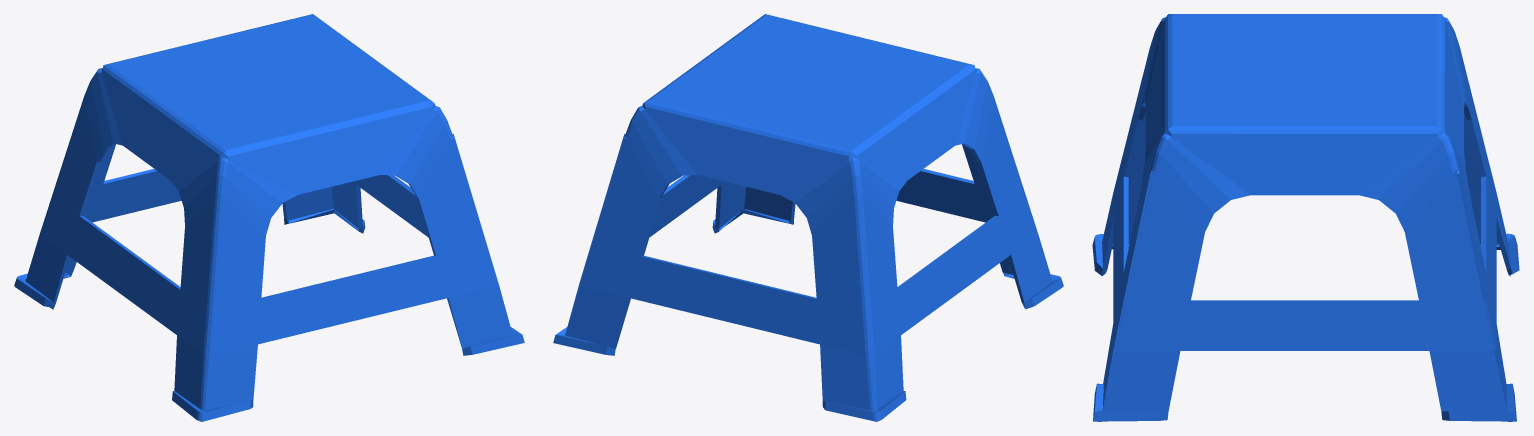
File: blue_stool.fbx
3 views of the same model, side by side, from view 1: azimuth 30°, elevation 25°; view 2: azimuth 150°, elevation 25°; view 3: azimuth 270°, elevation 25° (orthographic). The views are drawn at different scales.
Parts seen in each view (by area): view 1: Blue Stool; view 2: Blue Stool; view 3: Blue Stool.
Part boxes in pixels (bbox=[...]): Blue Stool: bbox=[14, 14, 524, 421]; Blue Stool: bbox=[553, 14, 1063, 421]; Blue Stool: bbox=[1092, 14, 1519, 421].
Size of the model in its own units: 82.64 by 56.99 by 83.08.
